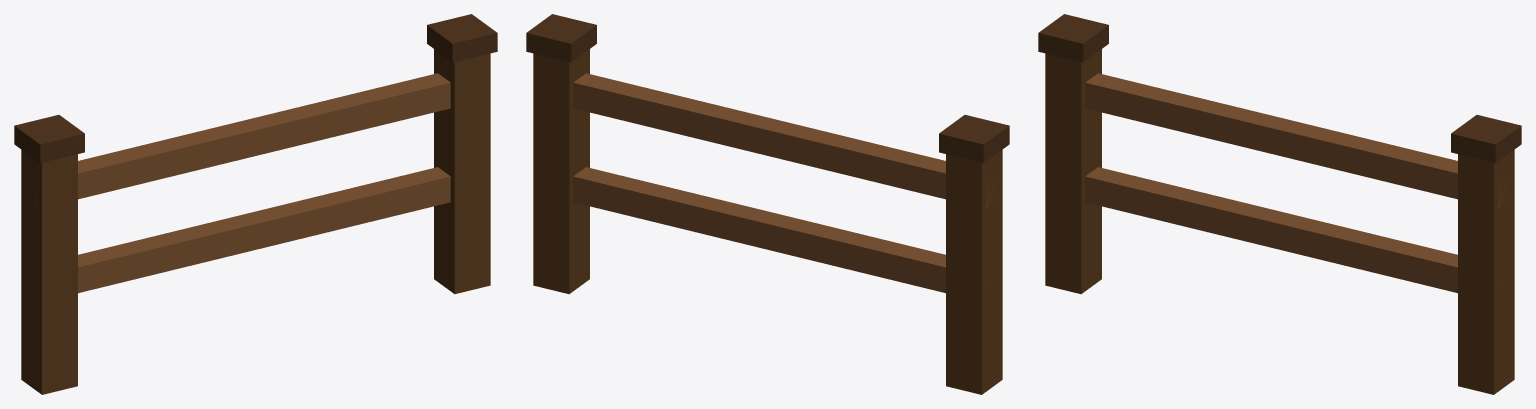
The model's file is xma-rail-fence.glb.
The picture shows the model from 3 angles, left to right: view 1: azimuth 30°, elevation 25°; view 2: azimuth 150°, elevation 25°; view 3: azimuth 330°, elevation 25°; orthographic projection.
Parts seen in each view (by area): view 1: box-prop; view 2: box-prop; view 3: box-prop.
Boxes of the visible parts, x1,y1,x2,y2 form: box-prop: [14, 14, 497, 394]; box-prop: [526, 14, 1009, 394]; box-prop: [1038, 14, 1521, 394].
Size of the model in its own units: 2.04 by 1.08 by 0.2.
